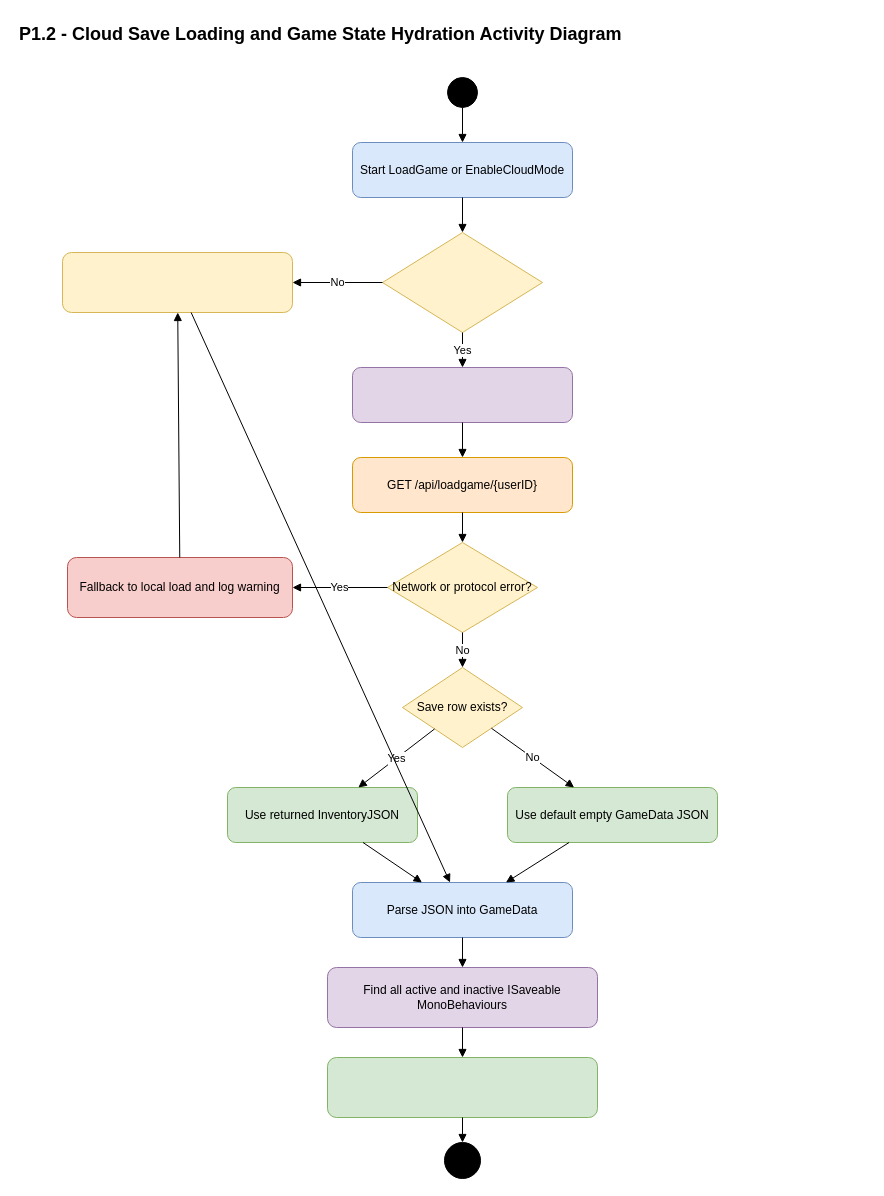
The diagram is 884 pixels wide and 1196 high, and some of its shapes have lost their labels. The shapes that lost their labels are listed below. From the top down, each one's centre as x and y in pixels, then its label:
the point at 177,282: Load local encrypted JSON with FileDataHandler
the point at 462,282: Cloud enabled and handler exists?
the point at 462,394: Call CloudDataHandler.LoadRoutine
the point at 462,1087: Loop: call LoadData(gameData) for each saveable object
